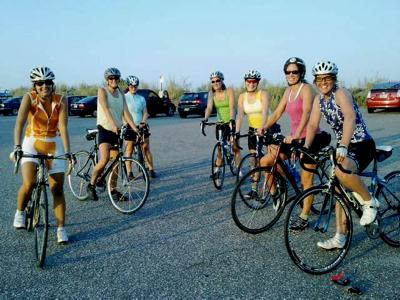With Helmet: (29, 62, 57, 98), (281, 53, 309, 86), (205, 66, 229, 93), (103, 65, 124, 89)
